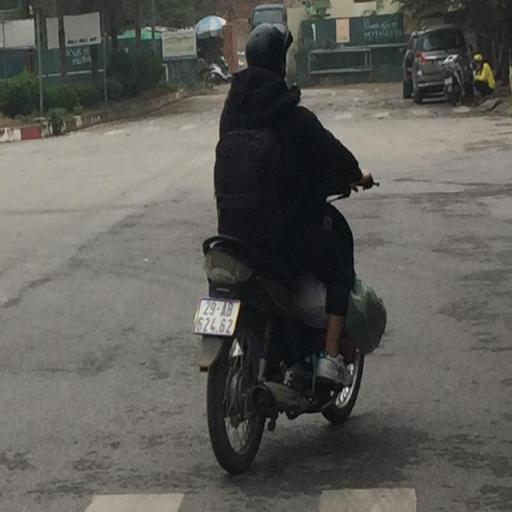bike: (192, 18, 375, 476)
numberplate: (192, 296, 242, 338)
with helmet: (244, 21, 294, 79)
